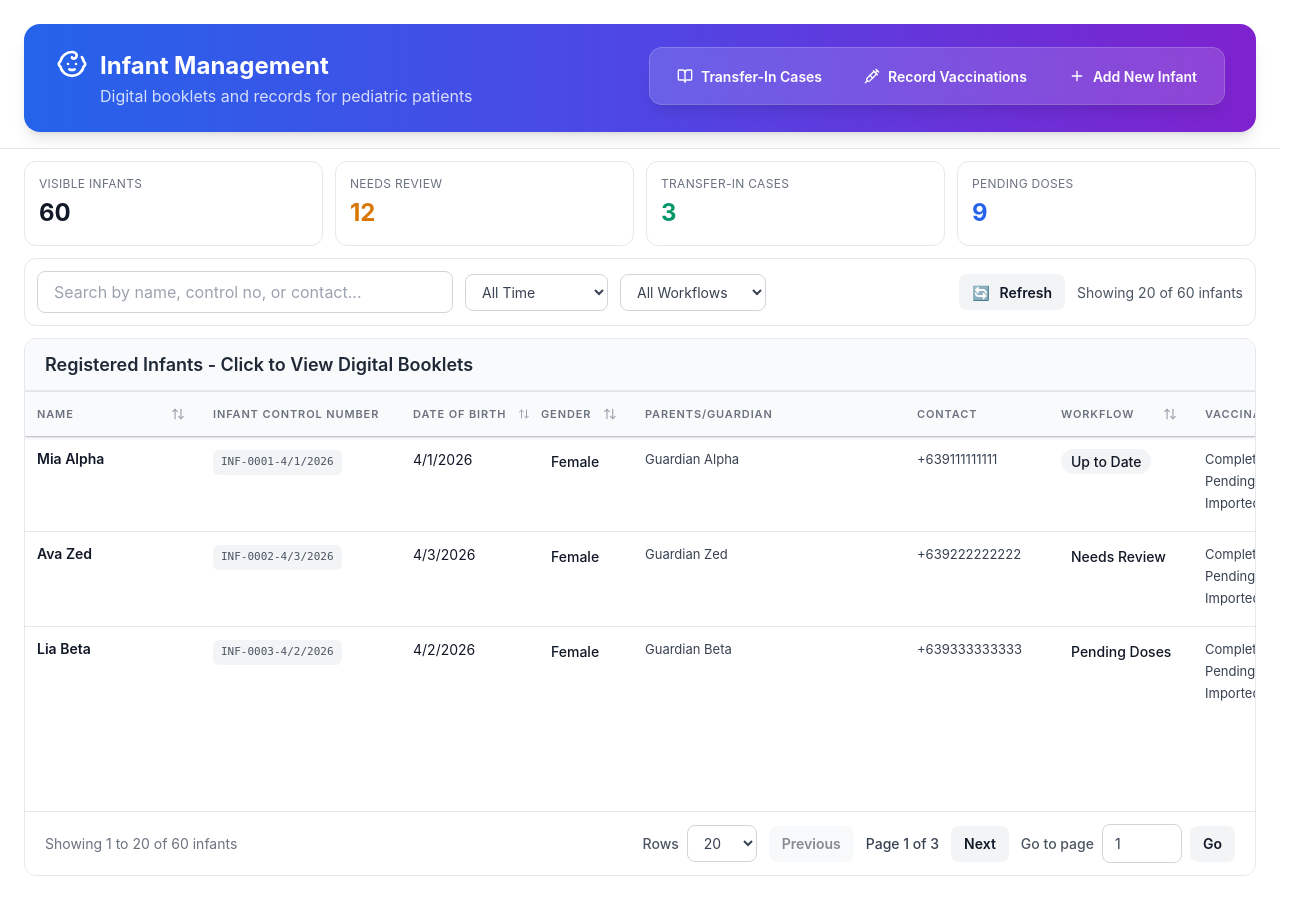
Test: InfantManagement table controls › uses the top search bar for surname searches without rendering a separate name filter
Expected: the text "Mia Alpha" is shown, [37,450,104,467]
In the field with placeholder "Search by name, control no, or contact...": (245, 292) [37,271,453,313], type "samorin"
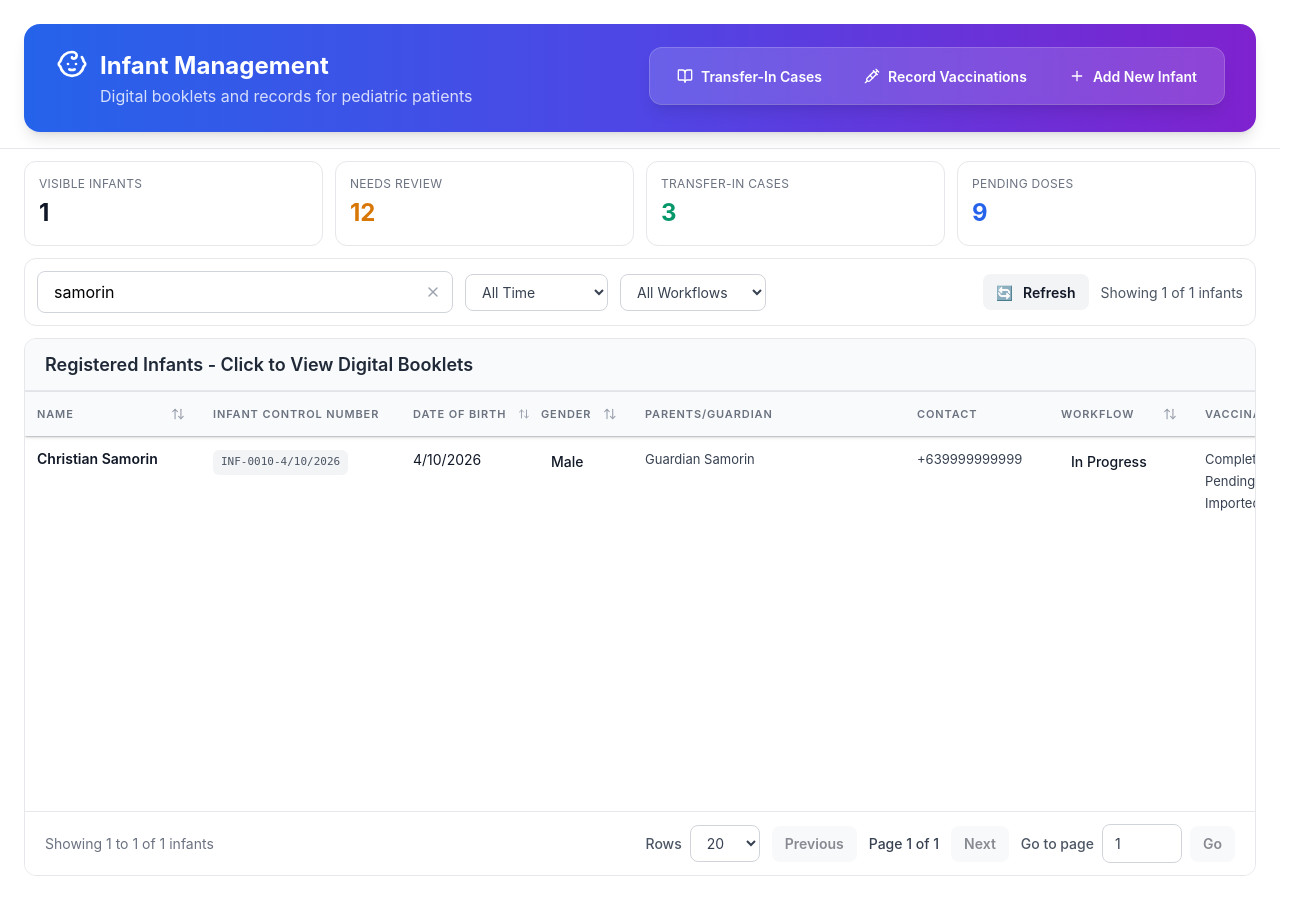
Expected: the text "Christian Samorin" is shown, [37,450,158,467]
